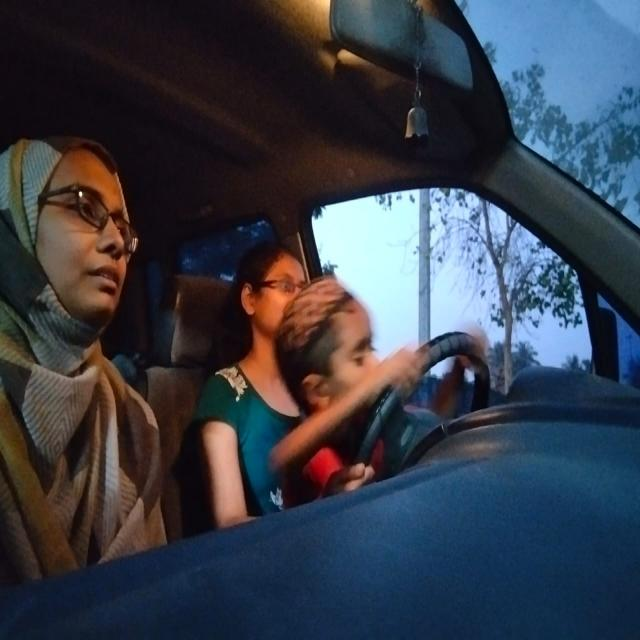child: (272, 265, 382, 416)
person: (2, 116, 148, 342), (224, 232, 304, 331)
